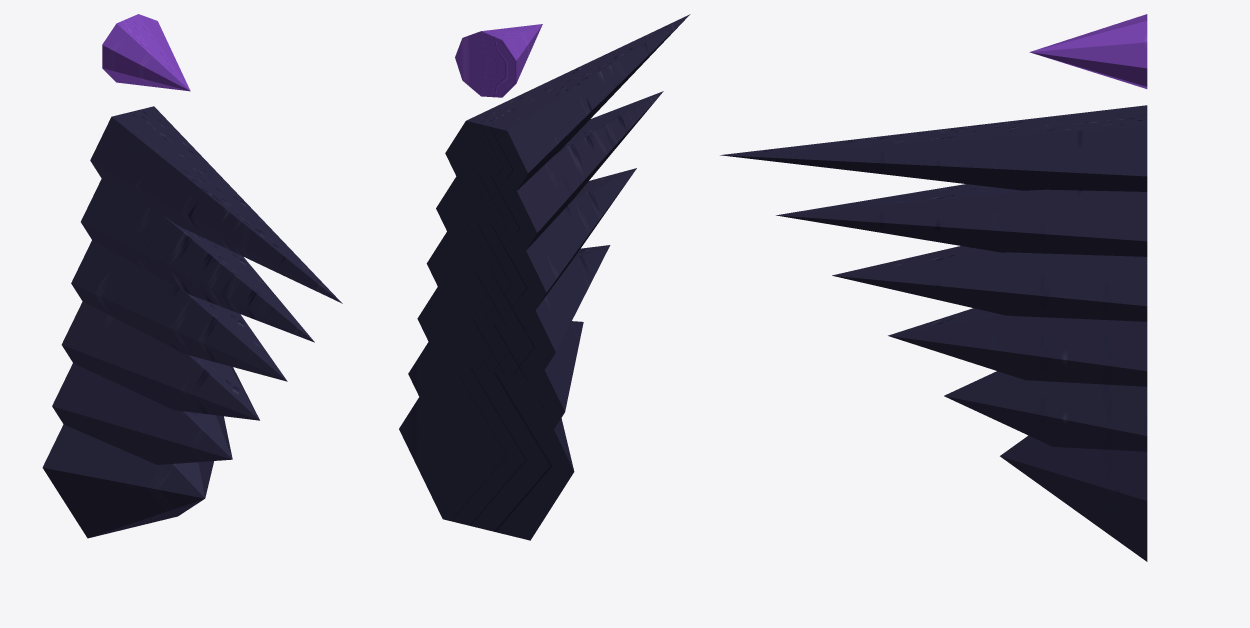
Rendered from spirit_obelisk.obj.
The picture shows the model from 3 angles, left to right: view 1: azimuth 30°, elevation 25°; view 2: azimuth 150°, elevation 25°; view 3: azimuth 270°, elevation 25°; orthographic projection. The views are drawn at different scales.
Bounding box in the file's own units: 3.6 × 10.44 × 8.75.
Materials: 1 (1 with a texture image).
